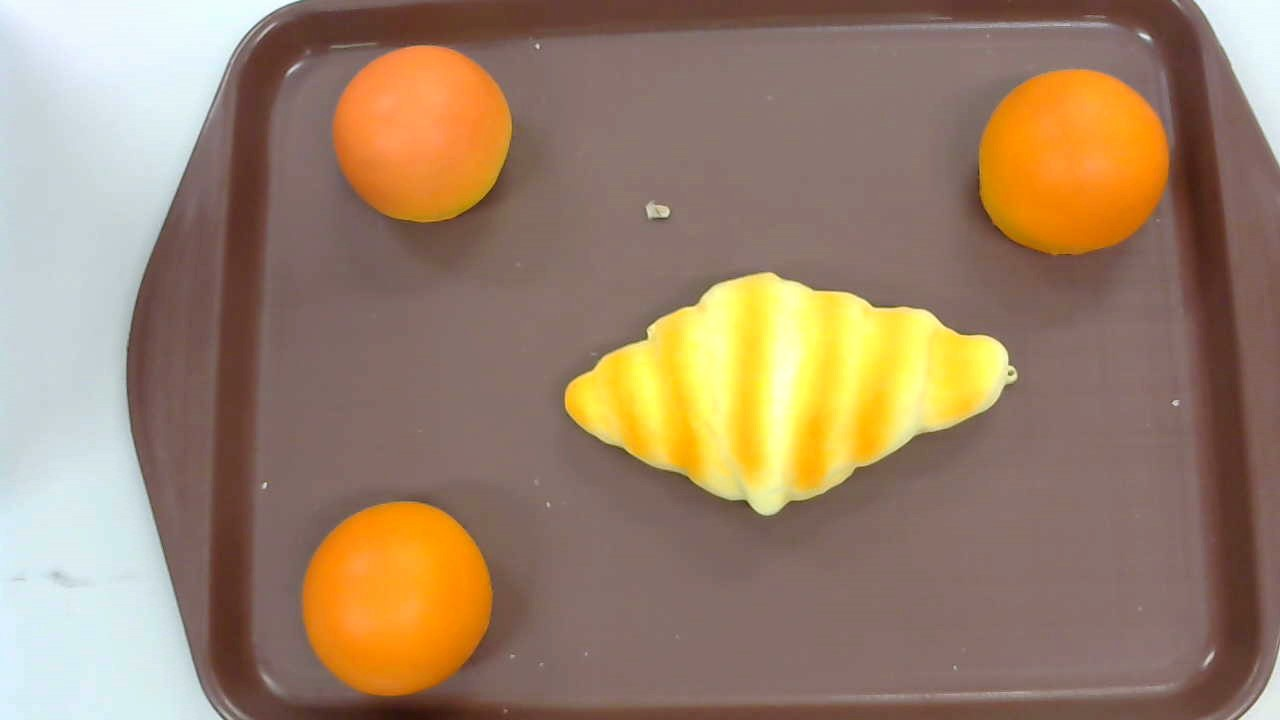bun: (302, 500, 492, 694), (977, 67, 1169, 257), (333, 44, 510, 221)
croissant: (563, 272, 1018, 516)
